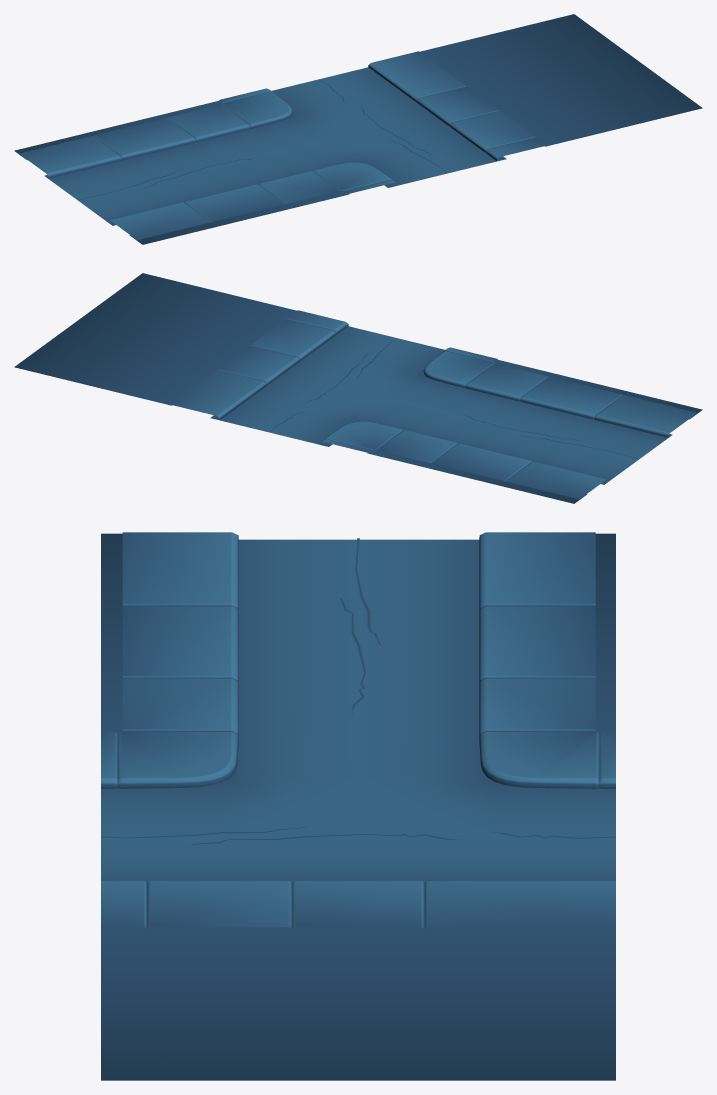
Rendered from Road03Night.glb.
3 renders of one model, top to bottom at view 1: azimuth 30°, elevation 25°; view 2: azimuth 150°, elevation 25°; view 3: azimuth 270°, elevation 25°, orthographic. The views are drawn at different scales.
Visible parts, largest first — view 1: Road03Night; view 2: Road03Night; view 3: Road03Night.
Part boxes in pixels (left/top/right/bottom): Road03Night: left=14, top=14, right=702, bottom=244; Road03Night: left=14, top=273, right=702, bottom=503; Road03Night: left=101, top=532, right=615, bottom=1080.
Bounding box in the file's own units: 22.62 × 0.1458 × 9.
